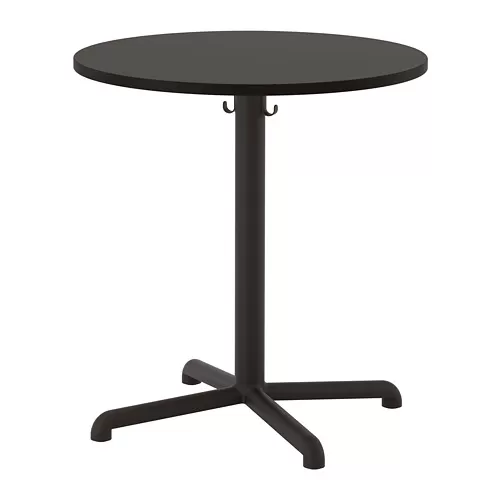Table: (72, 32, 429, 470)
